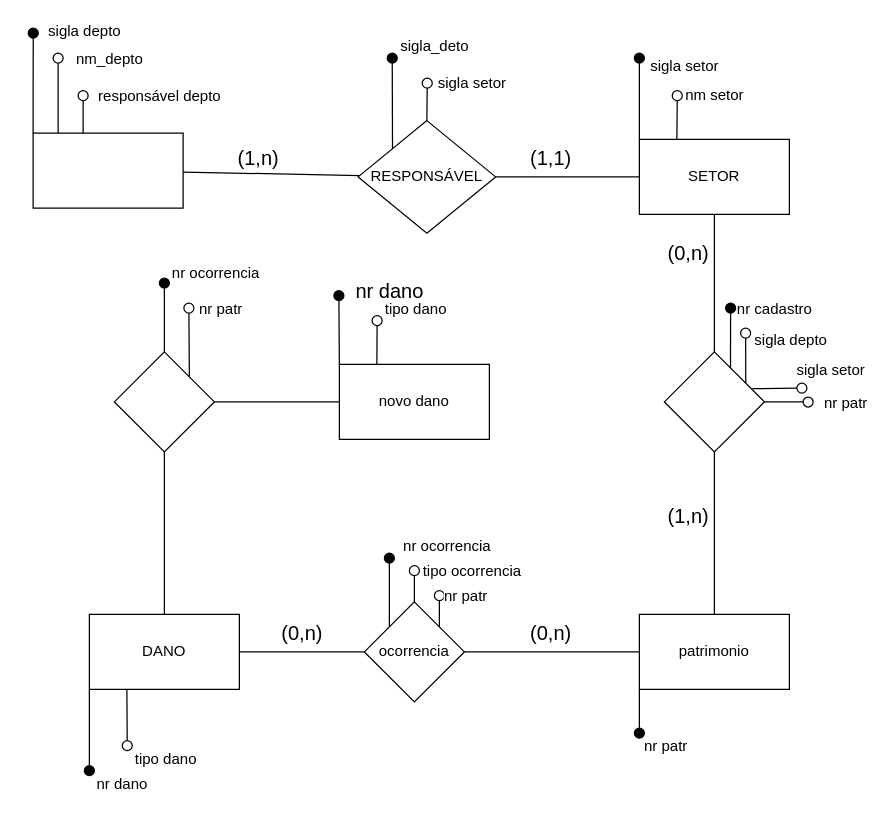
Image size: 890x814. Some labels were removed from this diagram. Here are the shapes that lost their labels. From the top down, the box of each, then its label:
(32, 132, 183, 208): DEPARTAMENTOS
(113, 351, 214, 452): cadastro dano
(663, 351, 764, 452): cadastro patrimonio
